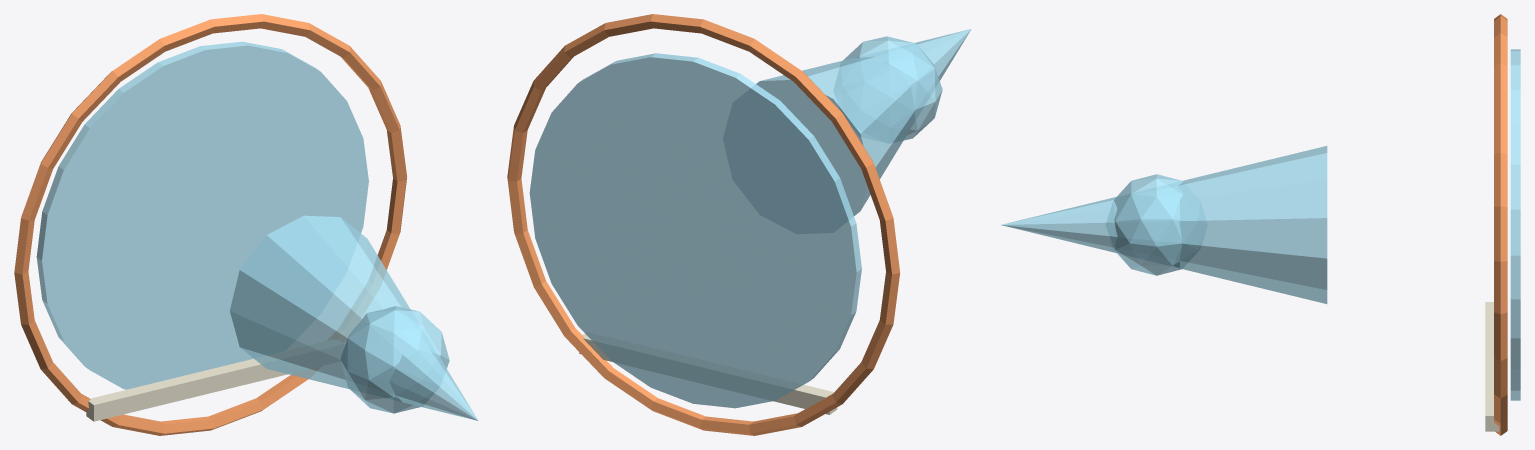
The model's file is 01_ability_vfx_module.glb.
The picture shows the model from 3 angles, left to right: view 1: azimuth 30°, elevation 25°; view 2: azimuth 150°, elevation 25°; view 3: azimuth 270°, elevation 25°; orthographic projection. The views are drawn at different scales.
Visible parts, largest first — view 1: ability_ground_disc, ability_energy_cone, ability_timing_ring, ability_core, directional_flow_mark; view 2: ability_ground_disc, ability_timing_ring, ability_energy_cone, directional_flow_mark, ability_core; view 3: ability_energy_cone, ability_core, ability_timing_ring, ability_ground_disc, directional_flow_mark.
Part boxes in pixels (left/top/right/bottom): ability_ground_disc: left=36, top=41, right=368, bottom=389; ability_energy_cone: left=230, top=215, right=478, bottom=420; ability_timing_ring: left=14, top=14, right=406, bottom=435; ability_core: left=340, top=306, right=449, bottom=413; directional_flow_mark: left=86, top=340, right=343, bottom=421; ability_ground_disc: left=529, top=53, right=861, bottom=408; ability_timing_ring: left=507, top=14, right=899, bottom=435; ability_energy_cone: left=756, top=29, right=971, bottom=215; directional_flow_mark: left=579, top=332, right=837, bottom=414; ability_core: left=843, top=36, right=942, bottom=140; ability_energy_cone: left=1001, top=146, right=1327, bottom=303; ability_core: left=1114, top=174, right=1183, bottom=275; ability_timing_ring: left=1494, top=14, right=1507, bottom=435; ability_ground_disc: left=1510, top=49, right=1520, bottom=400; directional_flow_mark: left=1485, top=302, right=1499, bottom=431.
Bounding box in the file's own units: 1.49 × 1.49 × 1.83.
